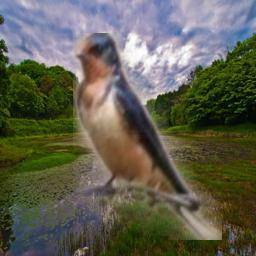Swallow: (73, 33, 222, 240)
